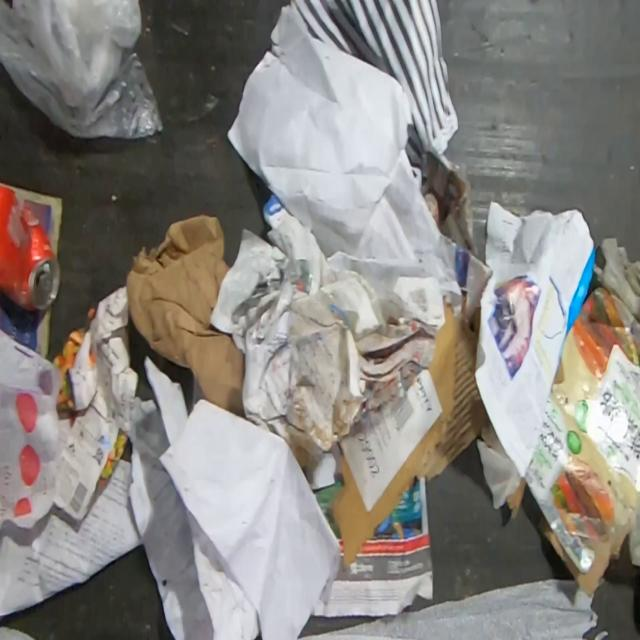cardboard: (328, 292, 492, 571), (506, 285, 640, 598), (52, 285, 139, 521)
metal: (0, 182, 62, 314)
soft_plastic: (0, 0, 166, 140)
